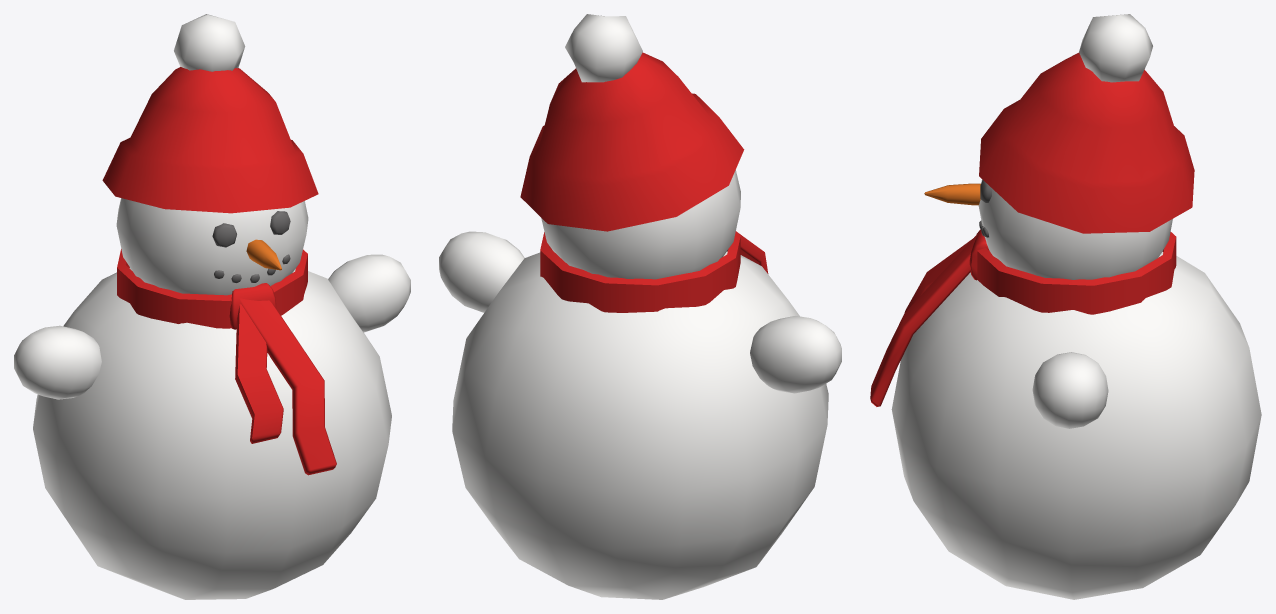
Rendered from Christmas_Snowman_3_231109.glb.
3 views of the same model, side by side, from view 1: azimuth 30°, elevation 25°; view 2: azimuth 150°, elevation 25°; view 3: azimuth 270°, elevation 25° (orthographic). The views are drawn at different scales.
Parts seen in each view (by area): view 1: Snowman_3; view 2: Snowman_3; view 3: Snowman_3.
Part boxes in pixels (x1,y1,x2,y2): Snowman_3: (14,14,410,599); Snowman_3: (439,14,841,599); Snowman_3: (870,14,1261,599).
Bounding box in the file's own units: 0.6998 × 0.9612 × 0.5953.
Materials: 1 (1 with a texture image).
